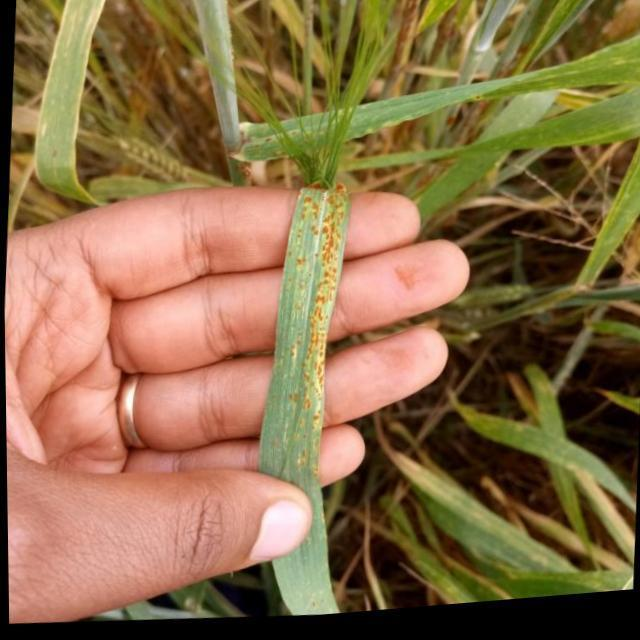Stem Rust: (256, 188, 348, 619)
